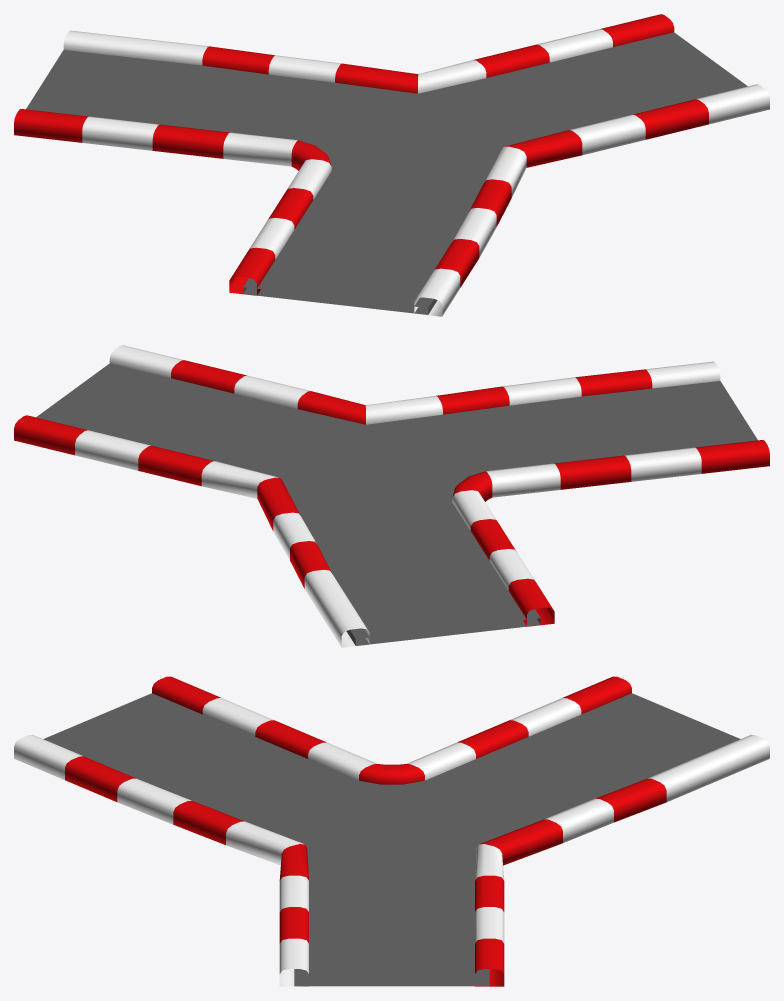
The model's file is TwoSidesTrack02.fbx.
3 renders of one model, top to bottom at view 1: azimuth 30°, elevation 25°; view 2: azimuth 150°, elevation 25°; view 3: azimuth 270°, elevation 25°, orthographic.
Parts seen in each view (by area): view 1: TwoSidesTrack02; view 2: TwoSidesTrack02; view 3: TwoSidesTrack02.
Part boxes in pixels (x1,y1,x2,y2): TwoSidesTrack02: (14, 14, 769, 316); TwoSidesTrack02: (14, 345, 769, 647); TwoSidesTrack02: (14, 676, 769, 986).
Bounding box in the file's own units: 6437 × 182 × 6974.
